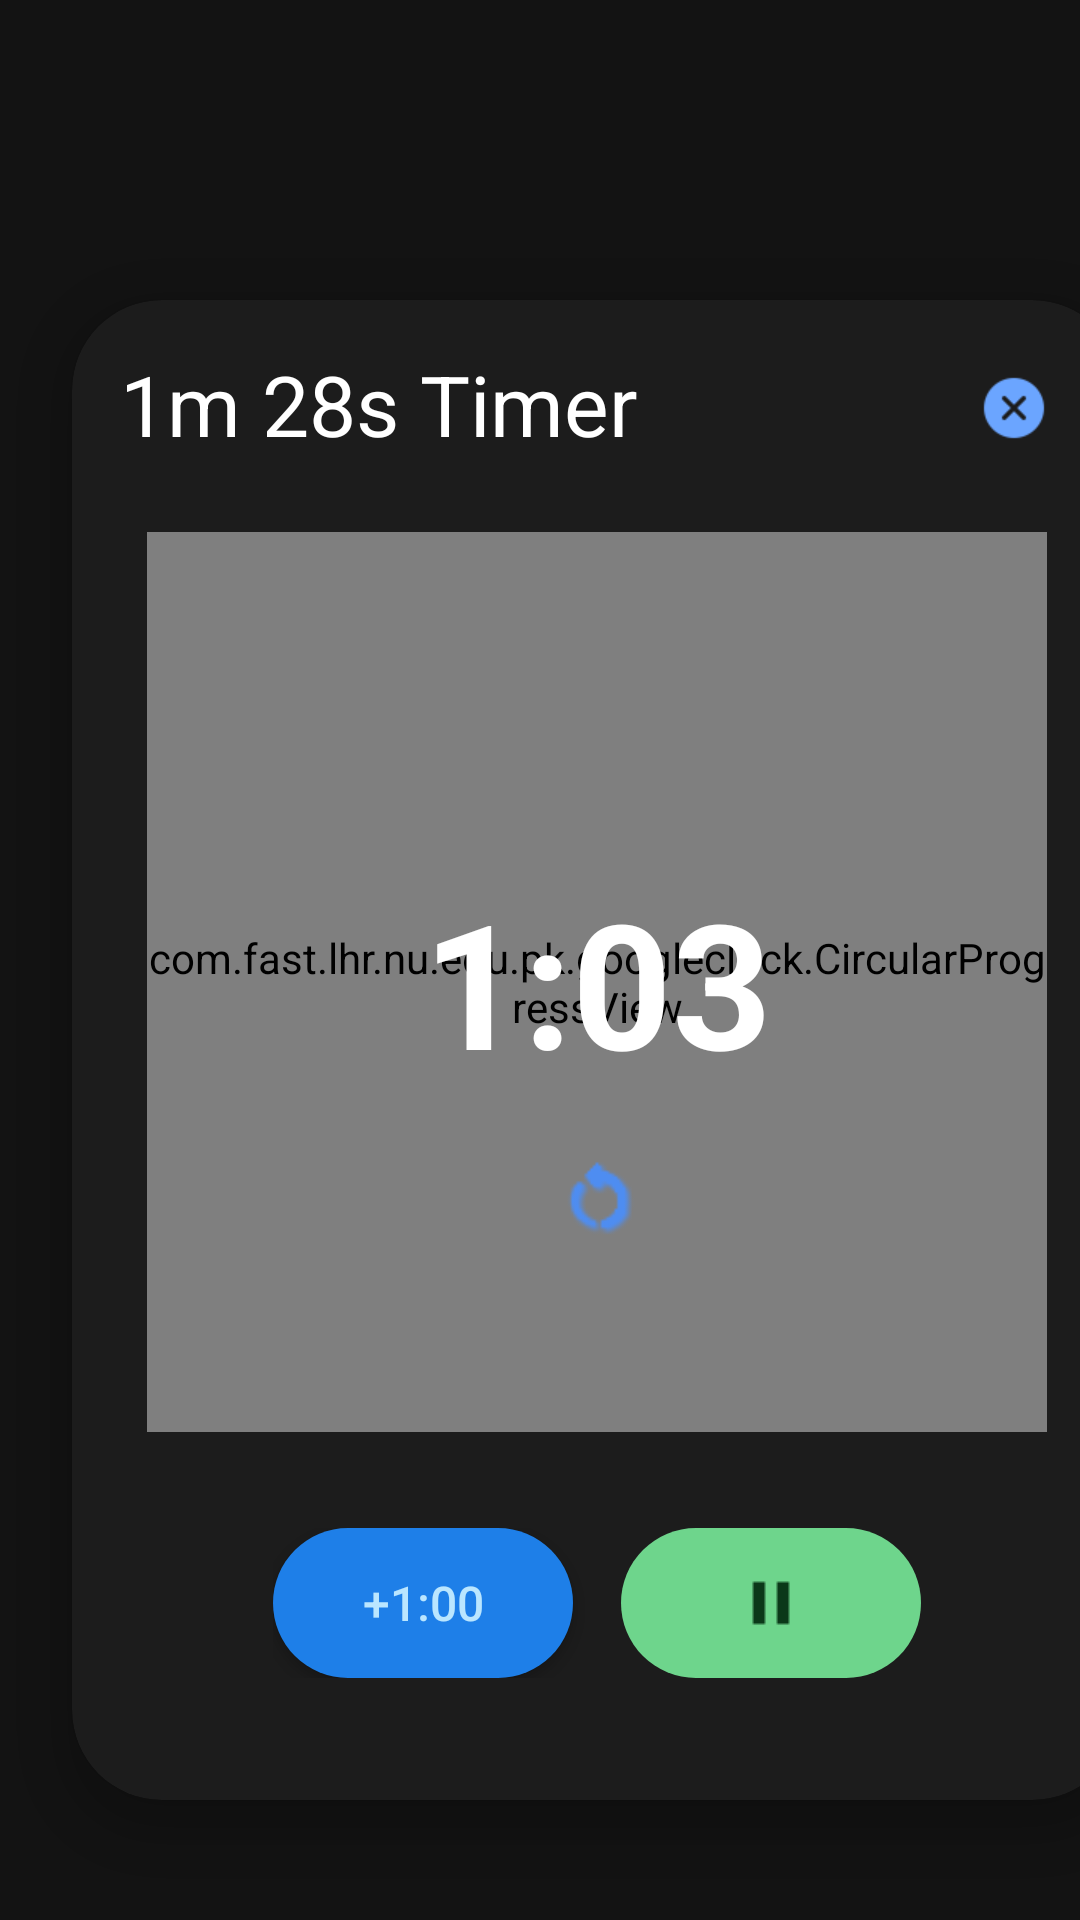

Icon click points for this 1080x1920 phone screenshot, format (x=x, y=y):
Close Timer: (x=1014, y=408)
Pause/Resume: (x=771, y=1603)
